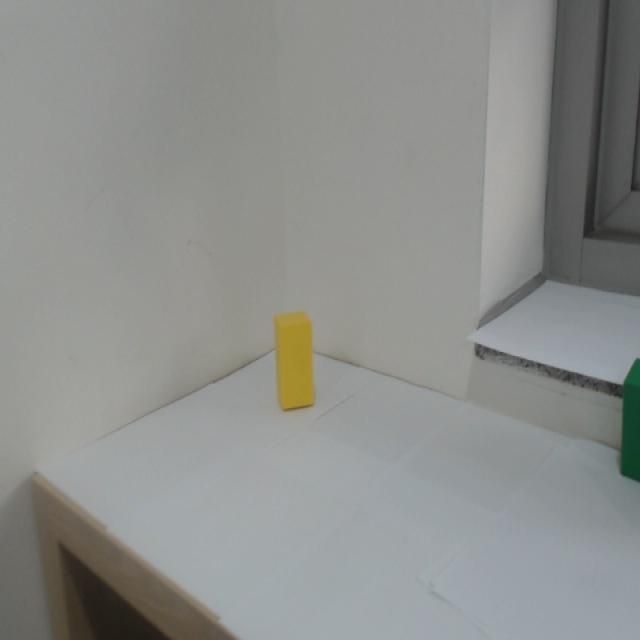cube: (267, 294, 329, 425)
